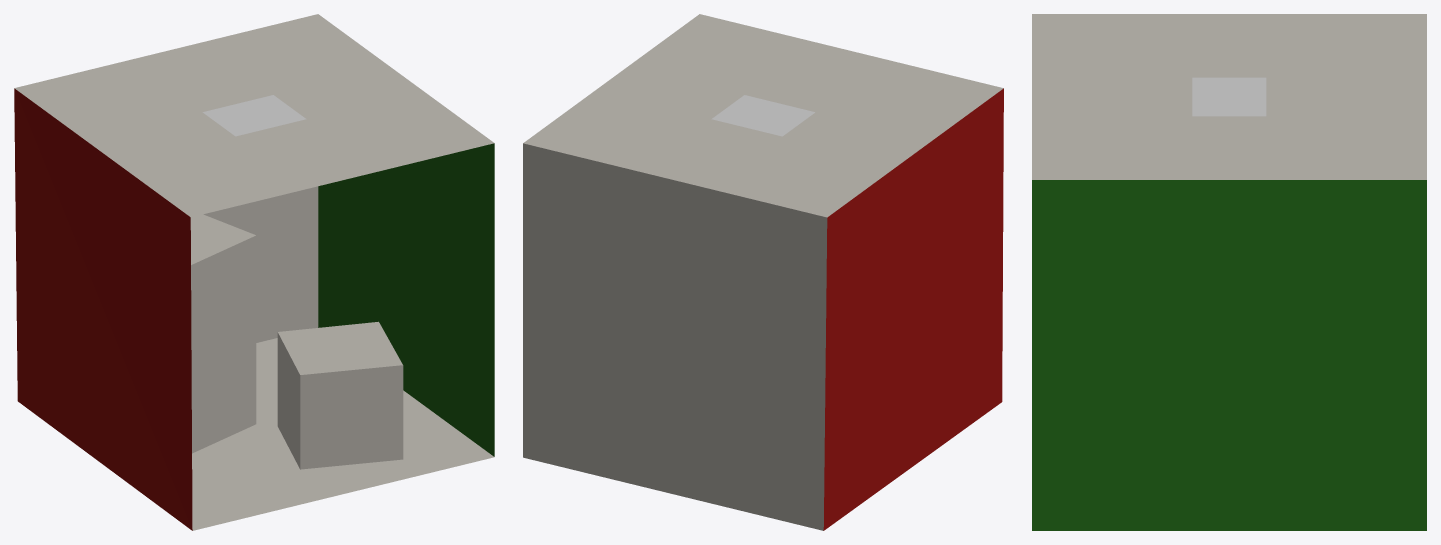
File: cornell-box.obj
3 renders of one model, left to right at view 1: azimuth 30°, elevation 25°; view 2: azimuth 150°, elevation 25°; view 3: azimuth 270°, elevation 25°, orthographic. The views are drawn at different scales.
Visible parts, largest first — view 1: left_wall, right_wall, ceiling_right, ceiling_left, floor, tall_block_side_4, short_block_side_2, back_wall, ceiling_front, ceiling_back, short_block_top, area_light (+2 smaller); view 2: back_wall, left_wall, ceiling_left, ceiling_right, ceiling_back, ceiling_front, area_light; view 3: right_wall, ceiling_right, ceiling_left, ceiling_back, ceiling_front, area_light.
Part boxes in pixels (x1,y1,x2,y2): left_wall: [14, 88, 192, 530]; right_wall: [318, 143, 494, 456]; ceiling_right: [202, 14, 494, 171]; ceiling_left: [14, 60, 306, 217]; floor: [192, 338, 494, 530]; tall_block_side_4: [191, 235, 256, 453]; short_block_side_2: [300, 365, 403, 469]; back_wall: [203, 186, 318, 342]; ceiling_front: [236, 119, 377, 188]; ceiling_back: [131, 42, 272, 111]; short_block_top: [278, 321, 402, 374]; area_light: [202, 95, 306, 136]; back_wall: [523, 143, 827, 530]; left_wall: [823, 88, 1003, 530]; ceiling_left: [711, 60, 1003, 217]; ceiling_right: [523, 14, 815, 171]; ceiling_back: [640, 119, 782, 188]; ceiling_front: [745, 42, 886, 112]; area_light: [711, 95, 814, 136]; right_wall: [1032, 180, 1426, 530]; ceiling_right: [1032, 116, 1426, 179]; ceiling_left: [1032, 14, 1426, 77]; ceiling_back: [1266, 77, 1426, 116]; ceiling_front: [1032, 77, 1192, 116]; area_light: [1192, 77, 1266, 116].
Size of the model in its own units: 556 by 549 by 559.
